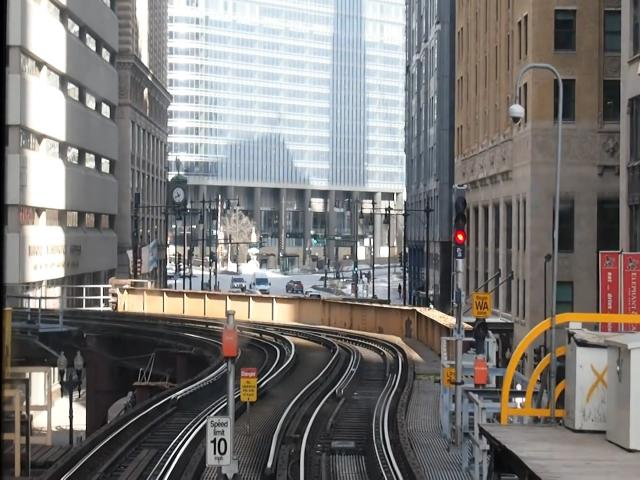signal light: (454, 194, 471, 262)
